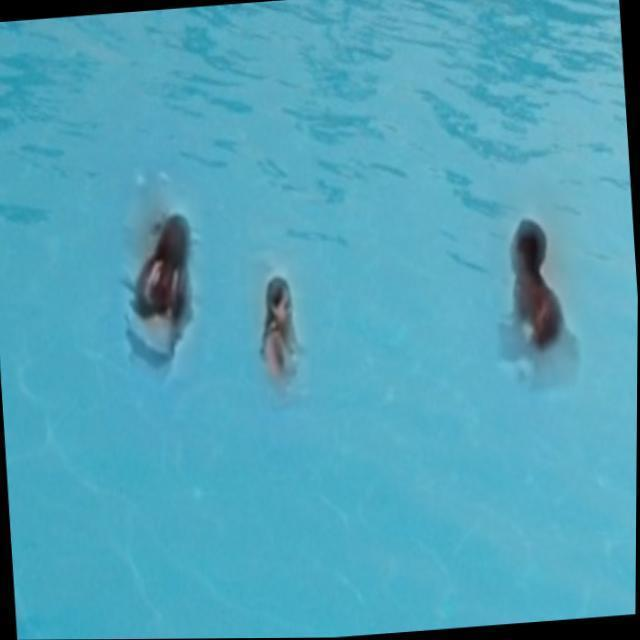swimming: (483, 221, 597, 379), (128, 215, 198, 377), (231, 263, 318, 381)
